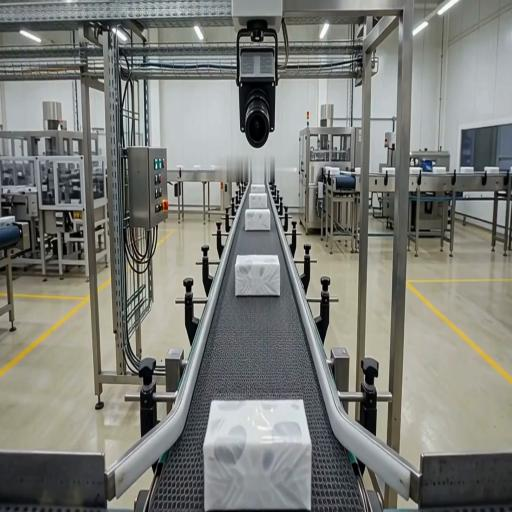good: (204, 401, 311, 511), (235, 255, 279, 296), (246, 209, 270, 230), (249, 193, 267, 209), (251, 184, 266, 193)
